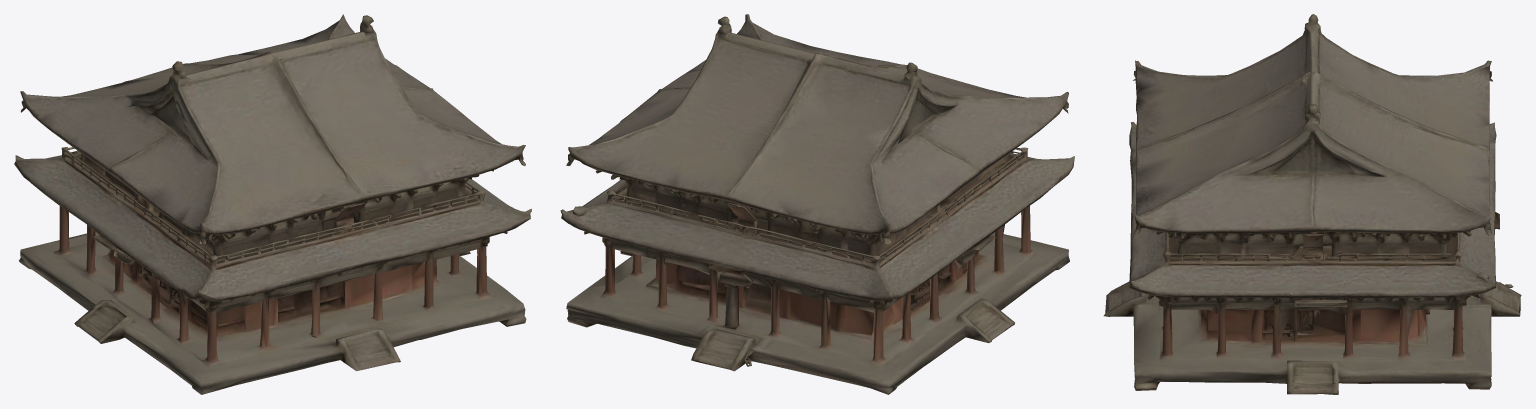
Rendered from building-shanhuasi.glb.
The picture shows the model from 3 angles, left to right: view 1: azimuth 30°, elevation 25°; view 2: azimuth 150°, elevation 25°; view 3: azimuth 270°, elevation 25°; orthographic projection.
Parts seen in each view (by area): view 1: node_7947a9bf-5f8a-4d43-9bd5-0f32749ab234; view 2: node_7947a9bf-5f8a-4d43-9bd5-0f32749ab234; view 3: node_7947a9bf-5f8a-4d43-9bd5-0f32749ab234.
Part boxes in pixels (x1,y1,x2,y2): node_7947a9bf-5f8a-4d43-9bd5-0f32749ab234: (14, 14, 531, 394); node_7947a9bf-5f8a-4d43-9bd5-0f32749ab234: (560, 14, 1074, 394); node_7947a9bf-5f8a-4d43-9bd5-0f32749ab234: (1103, 14, 1521, 394).
Bounding box in the file's own units: 1 × 0.6733 × 0.9932.
1 material, 1 textured.
